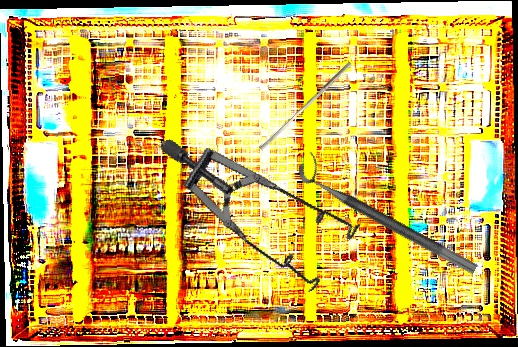Fixation Ring: (293, 150, 487, 276)
Pusher: (258, 57, 353, 155)
Speculum: (158, 83, 377, 324)
